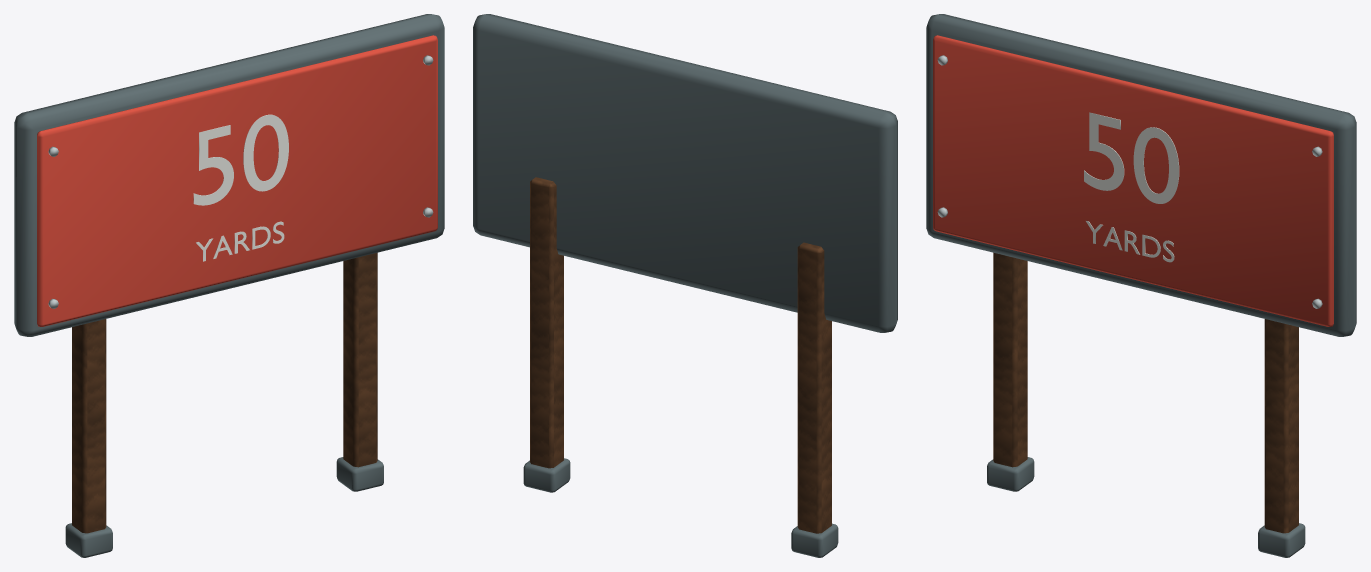
Rendered from distance-marker-50.glb.
The picture shows the model from 3 angles, left to right: view 1: azimuth 30°, elevation 25°; view 2: azimuth 150°, elevation 25°; view 3: azimuth 330°, elevation 25°; orthographic projection.
Visible parts, largest first — view 1: MarkerFace, PostFoot, Post, Yardage; view 2: PostFoot, Post; view 3: MarkerFace, PostFoot, Post, Yardage.
Part boxes in pixels (bbox=[...]): MarkerFace: bbox=[37, 35, 437, 326]; PostFoot: bbox=[14, 14, 444, 557]; Post: bbox=[72, 252, 377, 533]; Yardage: bbox=[193, 114, 288, 261]; PostFoot: bbox=[473, 14, 897, 557]; Post: bbox=[530, 177, 831, 533]; MarkerFace: bbox=[933, 35, 1333, 326]; PostFoot: bbox=[926, 14, 1356, 557]; Post: bbox=[993, 252, 1298, 533]; Yardage: bbox=[1084, 112, 1179, 262].
Size of the model in its own units: 1.32 by 1.35 by 0.142.
Materials: 5 (1 with a texture image).
